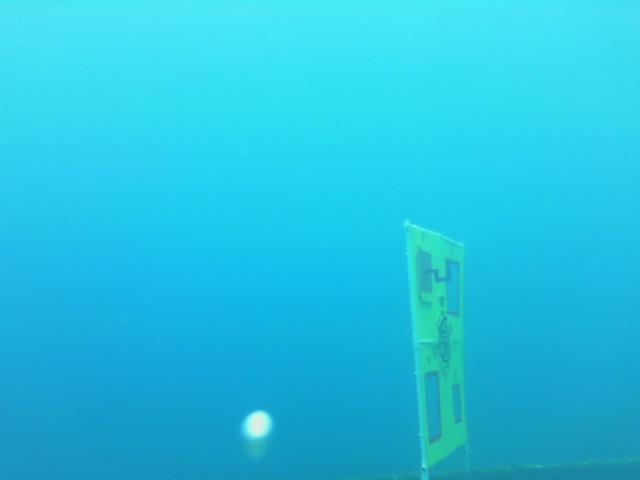torpedo_target: (397, 216, 473, 476)
